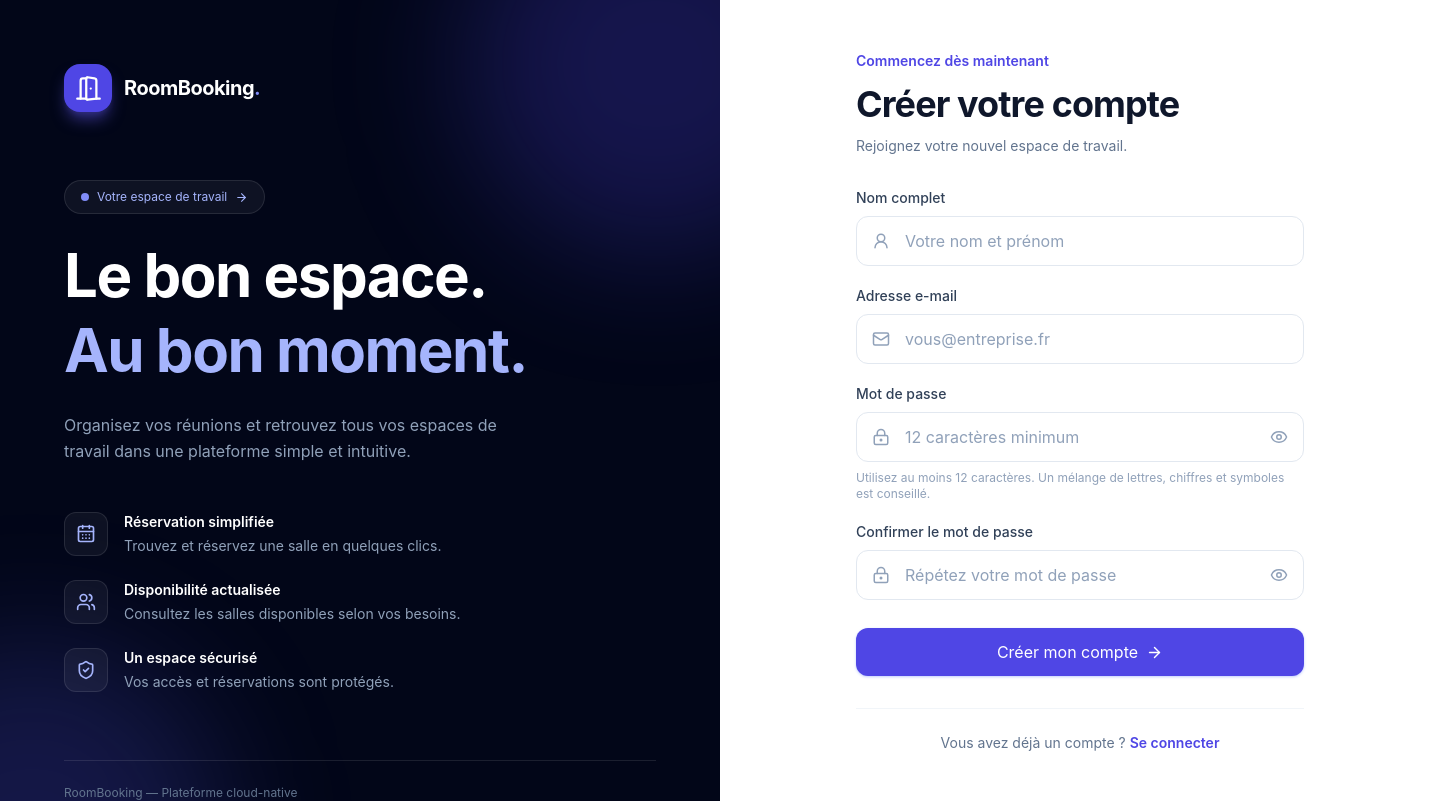
Test case: RegisterPage › rejects a different password confirmation
This screenshot has width=1440, height=801.
Type "RoomBooking Test User" into the field labelled "Nom complet" at (1080, 241), box 856,216 -> 1304,266
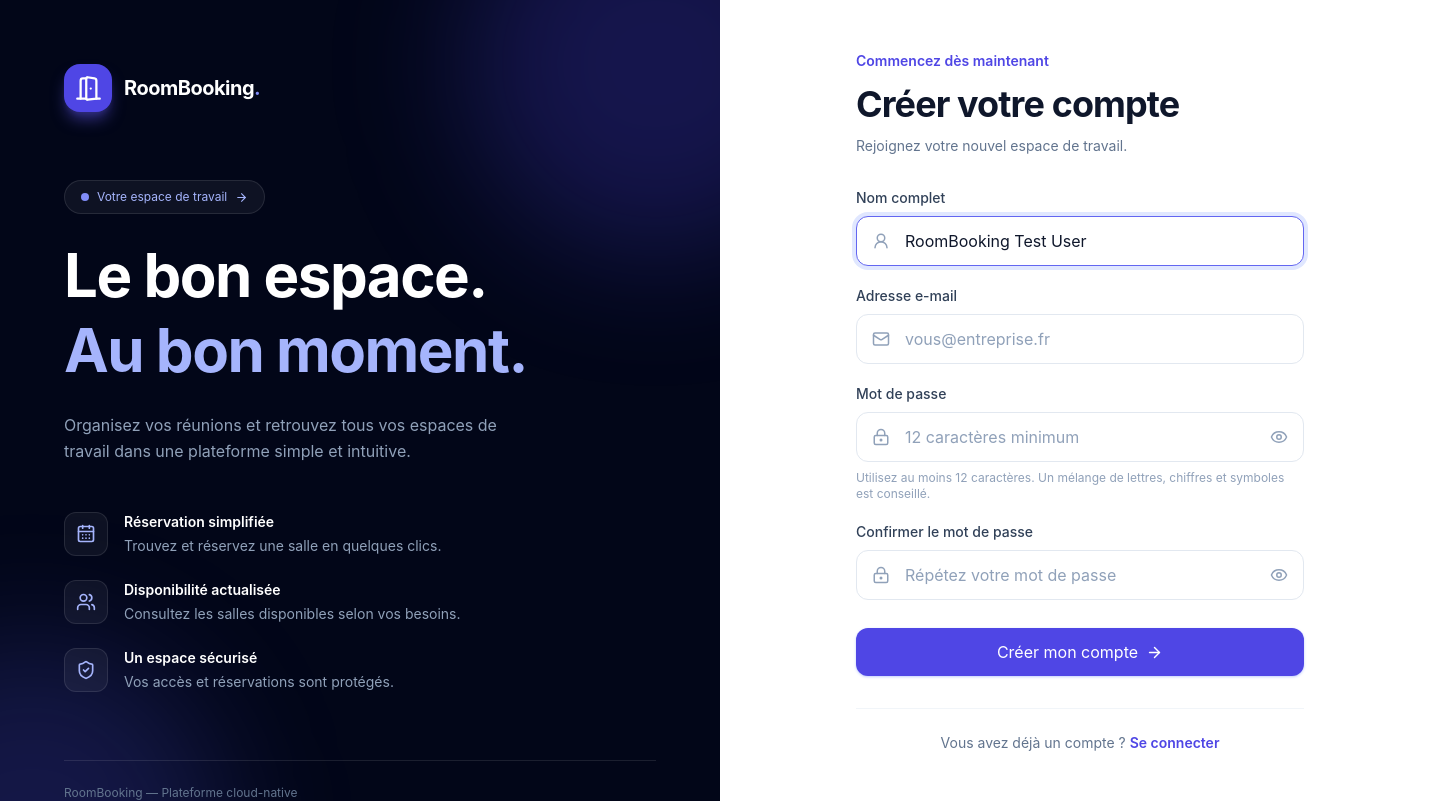
Type "user@example.com" into the field labelled "Adresse e-mail" at (1080, 339), box 856,314 -> 1304,364
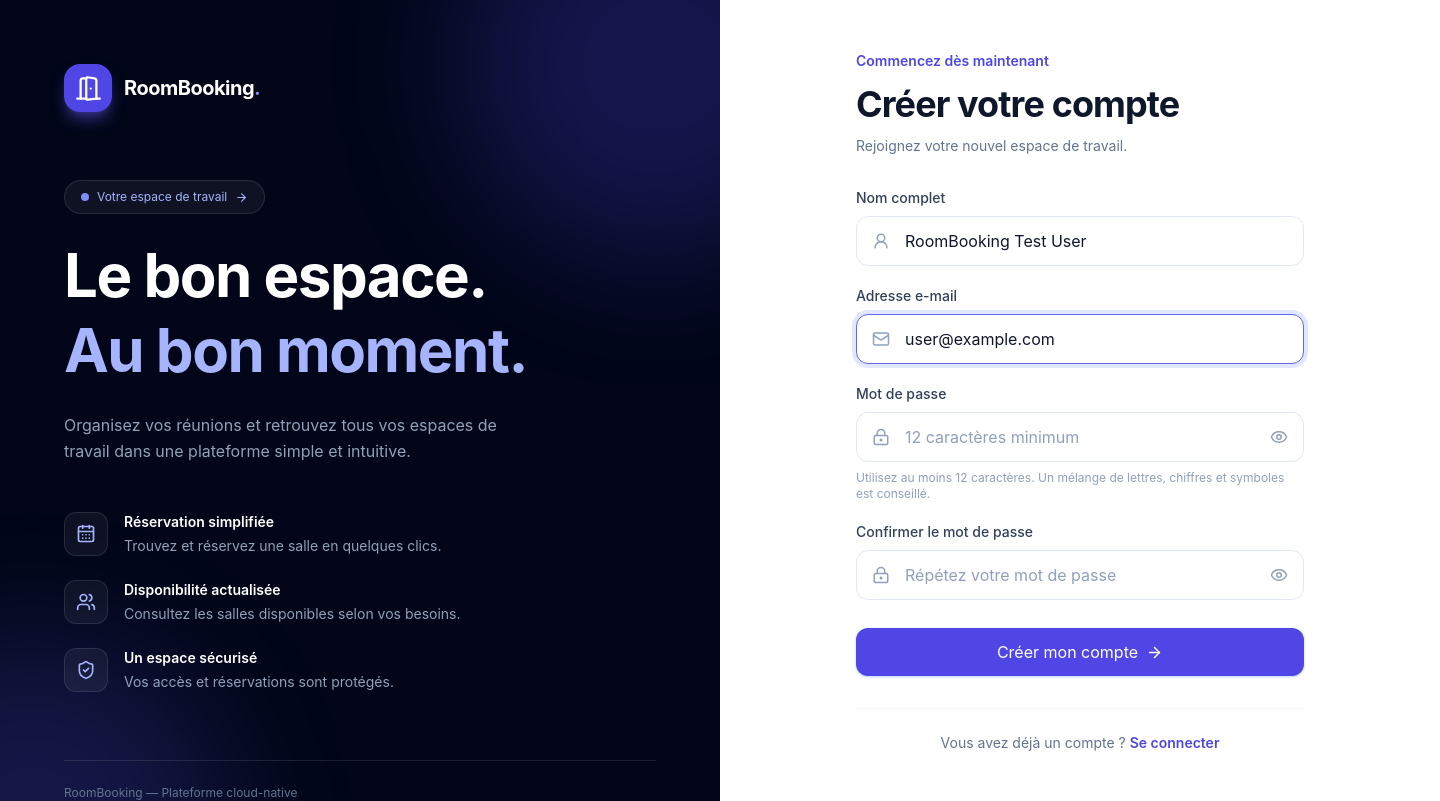
Type "TestPassword@2026!" into the password field labelled "Mot de passe" at (1080, 437), box 856,412 -> 1304,462
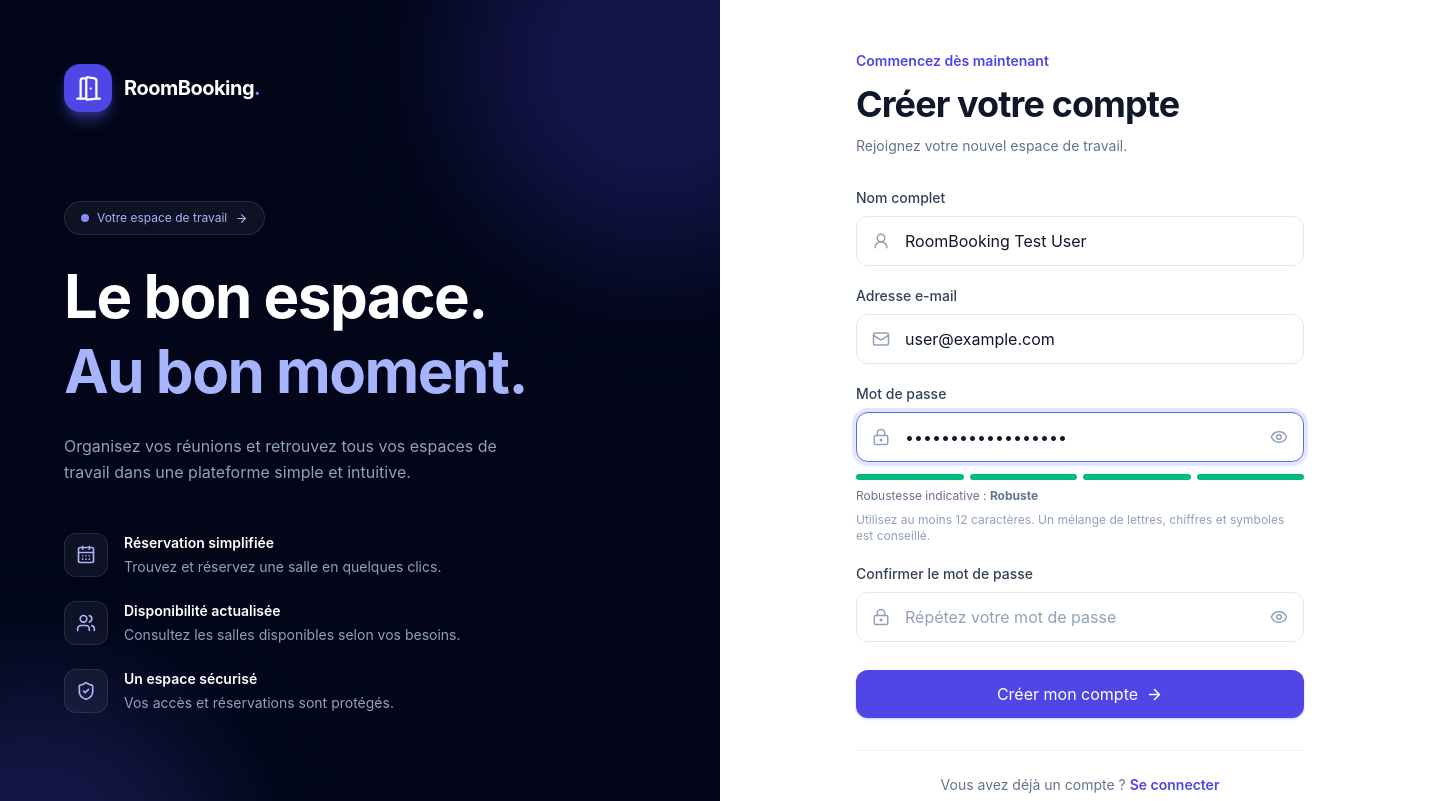
Type "DifferentPassword@2026" into the password field labelled "Confirmer le mot de passe" at (1080, 617), box 856,592 -> 1304,642
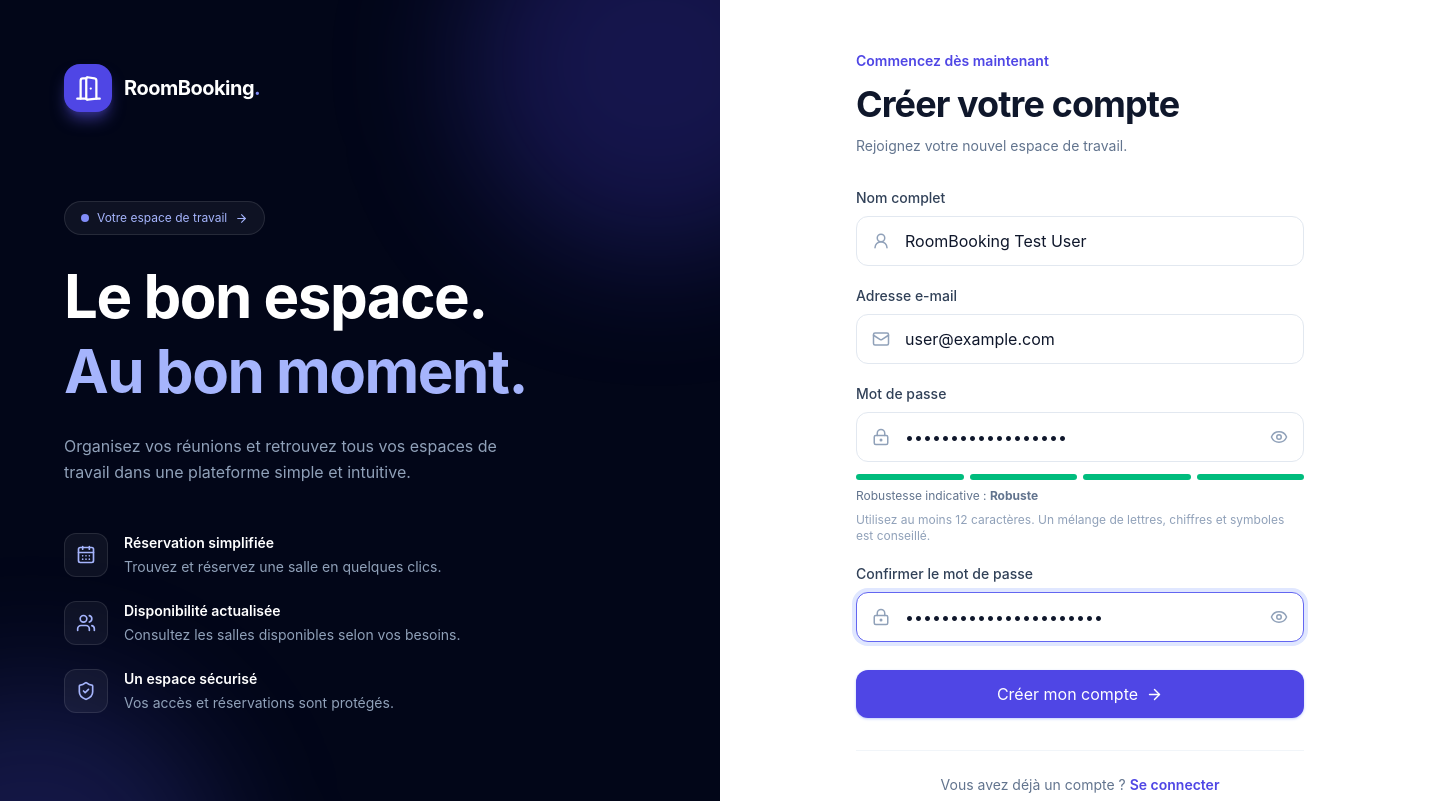
Click the button "Créer mon compte" at (1080, 694), box 856,670 -> 1304,718
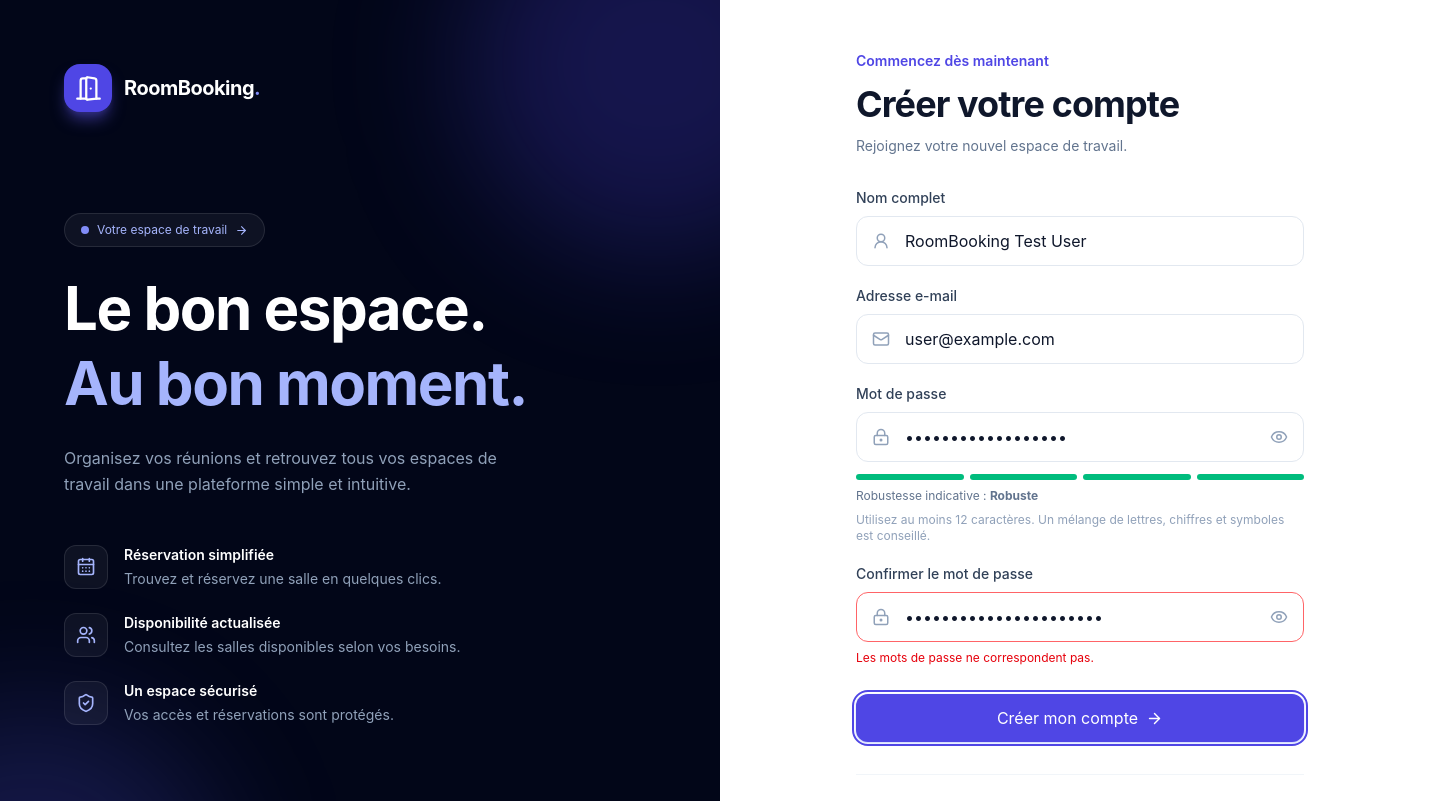
Check: the text "Les mots de passe ne correspondent pas." is shown, box 856,650 -> 1094,665
